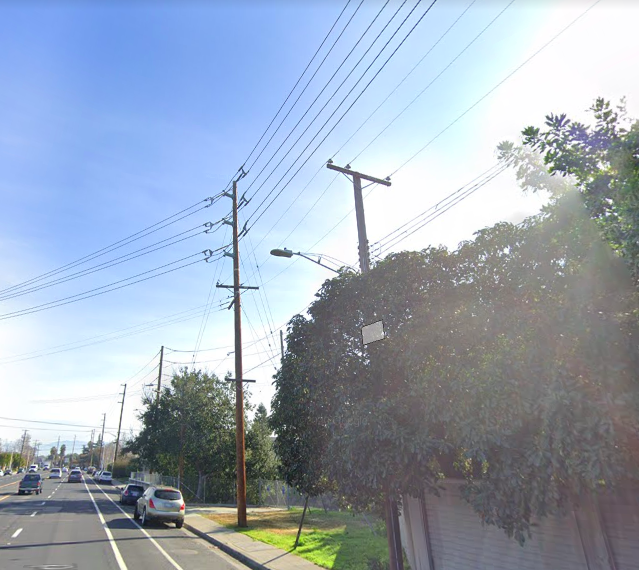utility_pole: (322, 149, 396, 198), (213, 168, 248, 263)
